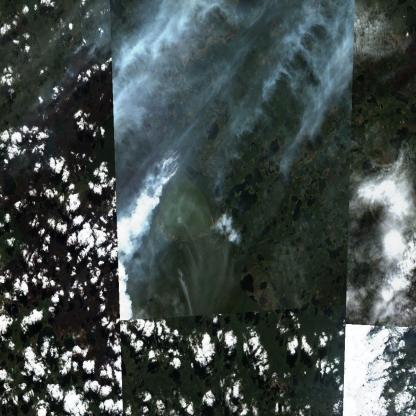fire: (106, 142, 186, 244)
